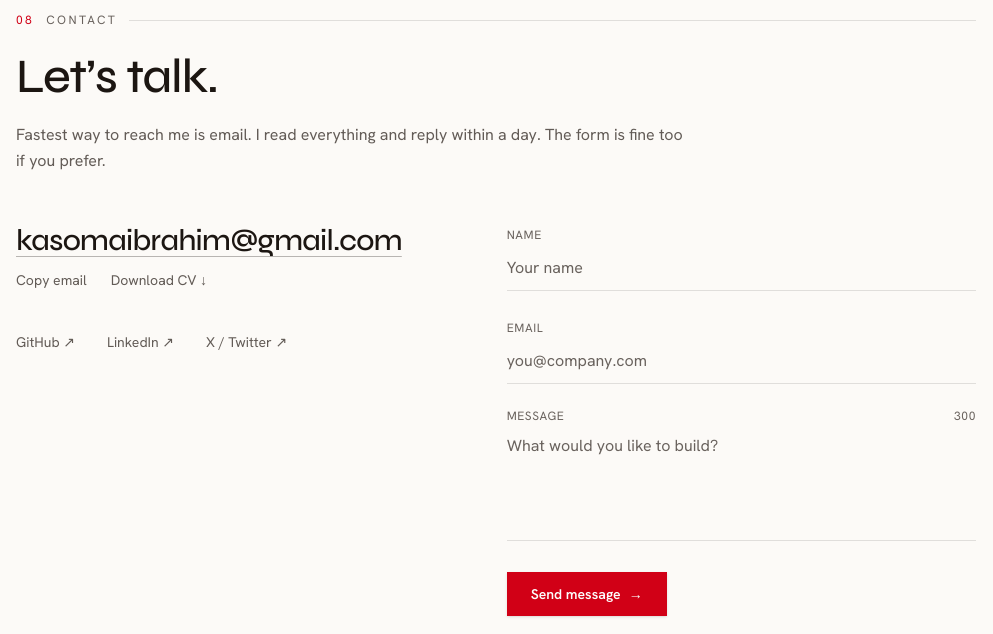
Test: Contact form › submits valid input and confirms success
Type "Jane Recruiter" into the field with placeholder "Your name". click: {"x": 741, "y": 269}
box: [507,246,976,291]
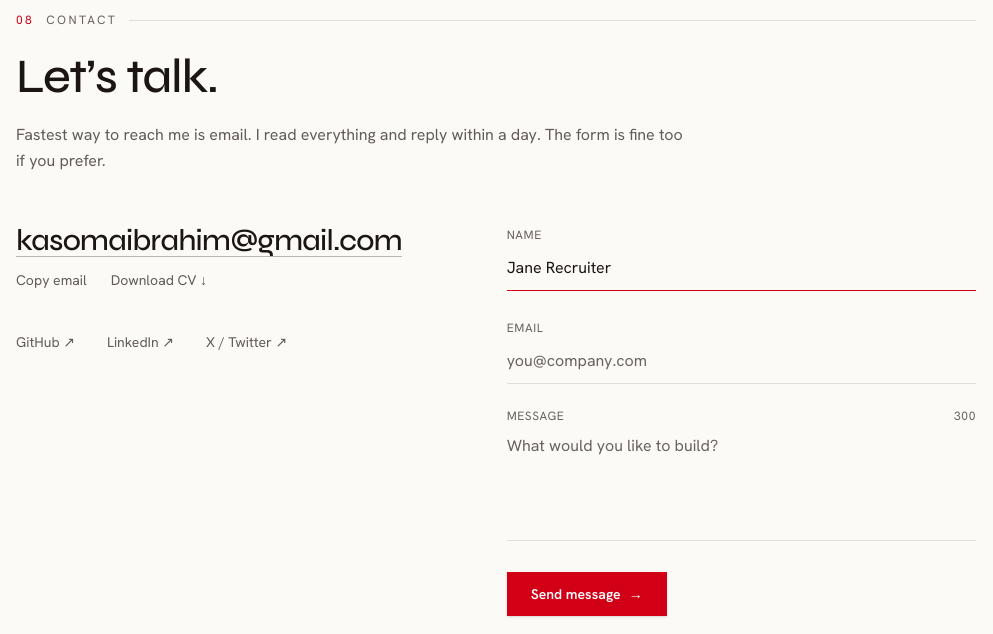
Type "jane@example.com" into the field with placeholder "you@company.com". click: {"x": 741, "y": 362}
box: [507,339,976,384]
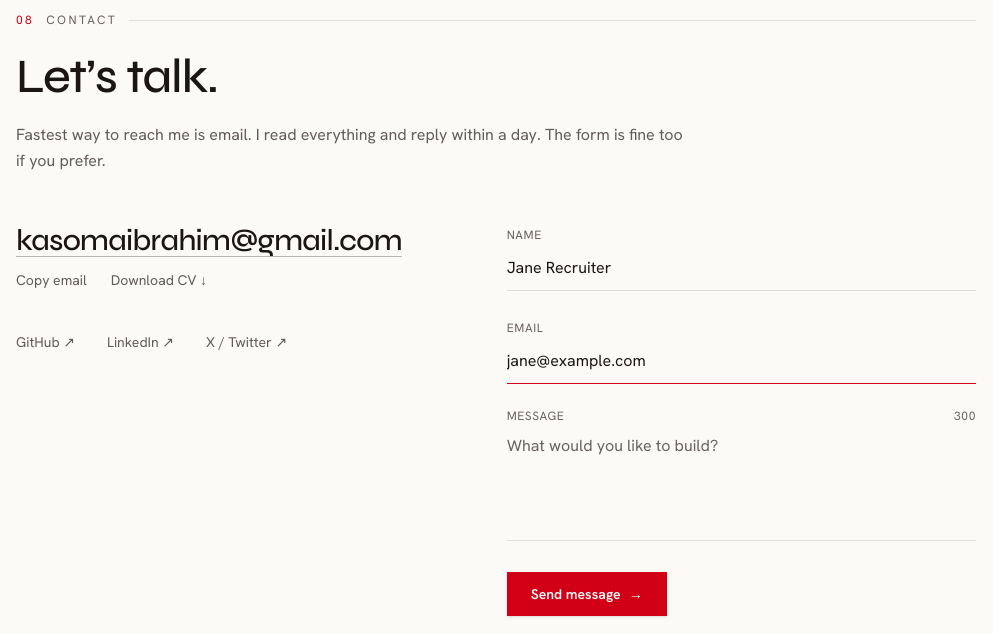
Type "Can we talk about a role?" into the text box with placeholder "What would you like to build?". click: {"x": 741, "y": 483}
box: [507,424,976,541]
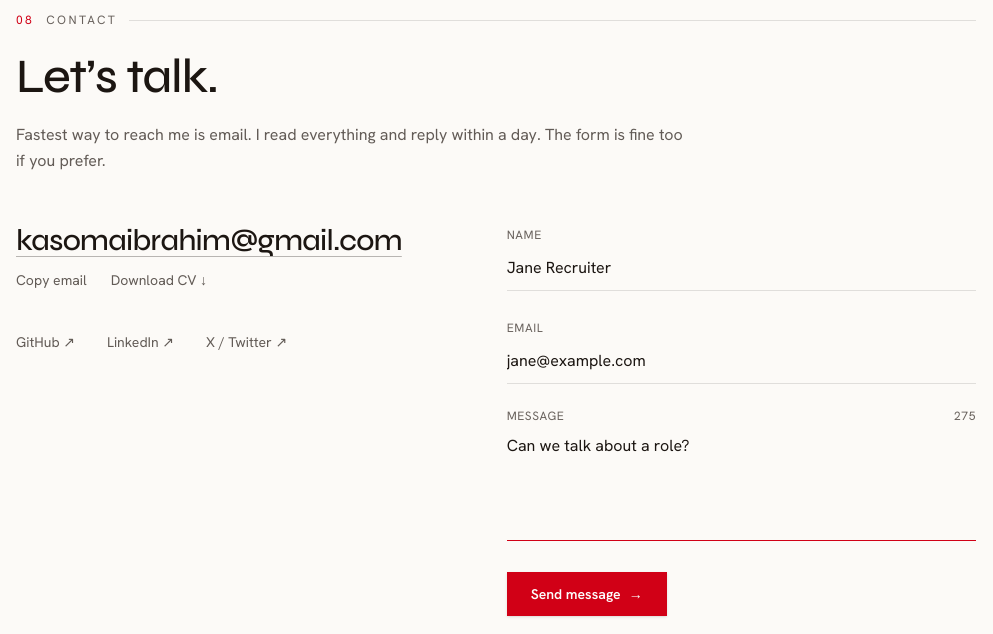
Click the button "Send message →". click: {"x": 587, "y": 594}
box: [507,572,667,616]
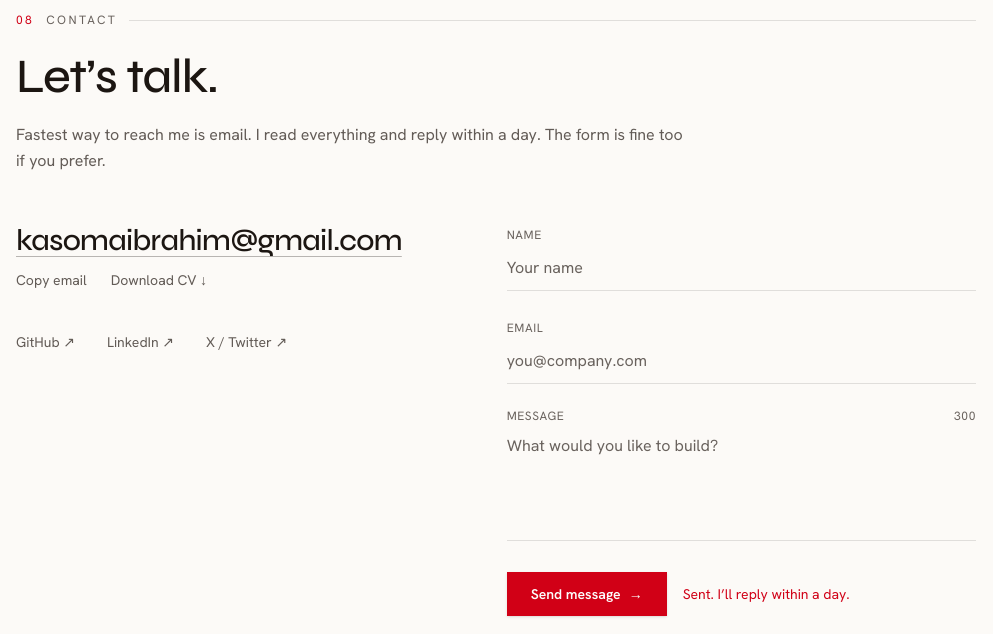
Expected: the message shows "reply within a day", [683,585,850,603]
